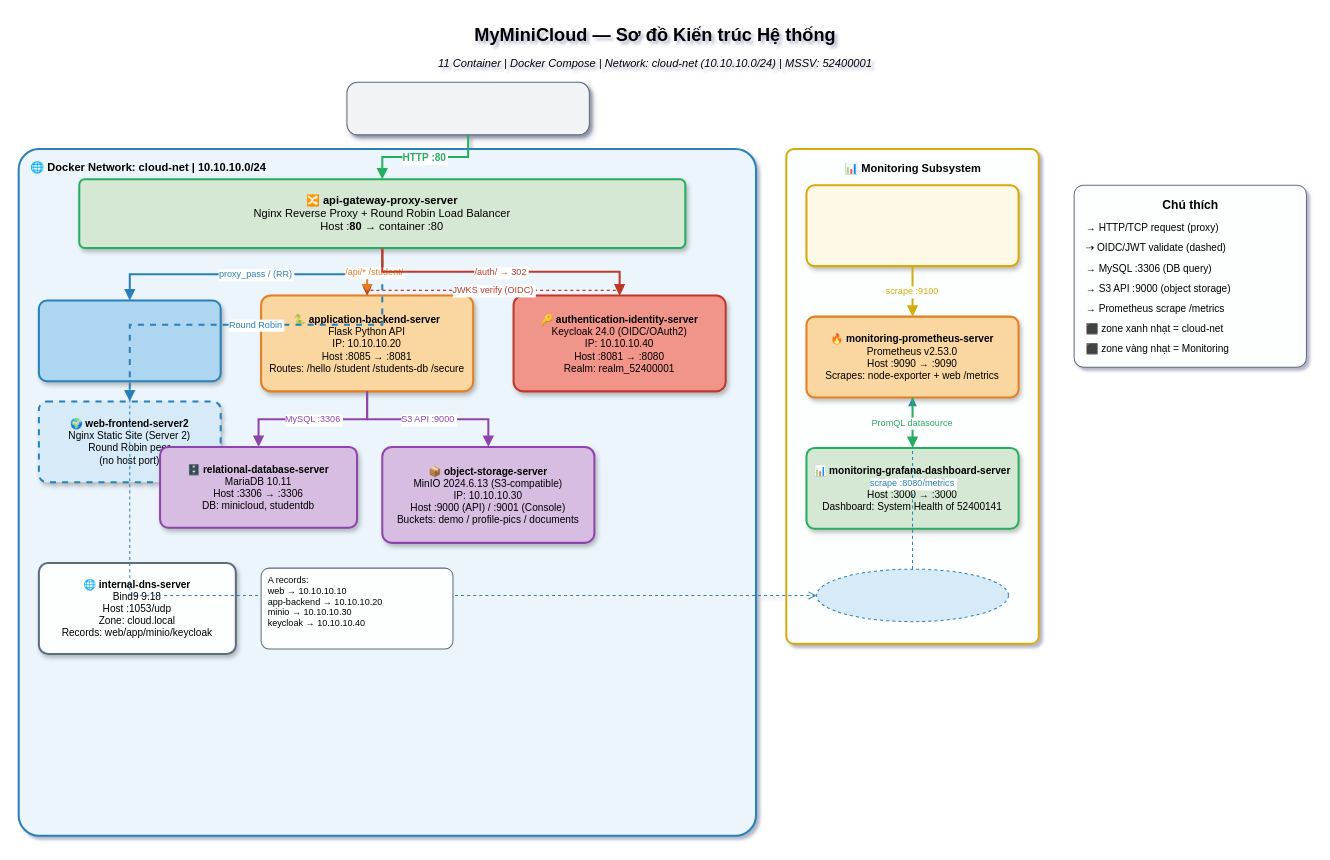
Image size: 1330x860. Some labels were removed from this diagram. The centre of each missing label's shape, as x and y in pixels:
web-frontend-server:80/metrics web_up = 1 (gauge): the point at 912,595
🌍 web-frontend-server Nginx Static Site IP: 10.10.10.10 Host :8080 → :80: the point at 130,342
👤 Người dùng Browser / curl / PowerShell: the point at 468,109
📡 node-exporter v1.8.2 Host :9100 → :9100 Metrics: CPU / RAM / Network: the point at 913,227
